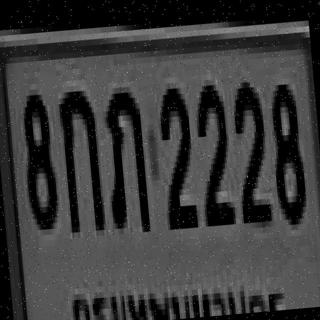A01: (55, 84, 103, 227)
A32: (99, 80, 150, 229)
N02: (229, 75, 270, 224), (190, 79, 232, 221), (156, 82, 196, 224)
N08: (266, 78, 306, 220), (18, 89, 57, 225)
